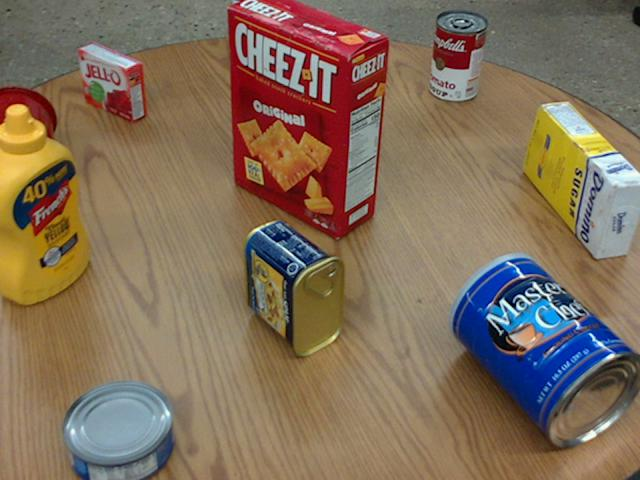cracker_box: (227, 0, 389, 235)
gelatin_box: (82, 43, 148, 121)
large_marker: (233, 0, 247, 63)
master_chef_can: (448, 252, 639, 445)
mug: (0, 86, 58, 188)
mustard_bottle: (0, 104, 90, 304)
potted_meat_can: (242, 220, 345, 357)
sugar_box: (524, 102, 639, 259)
tomato_soup_can: (430, 10, 488, 101)
tuna_fish_can: (62, 380, 173, 479)
